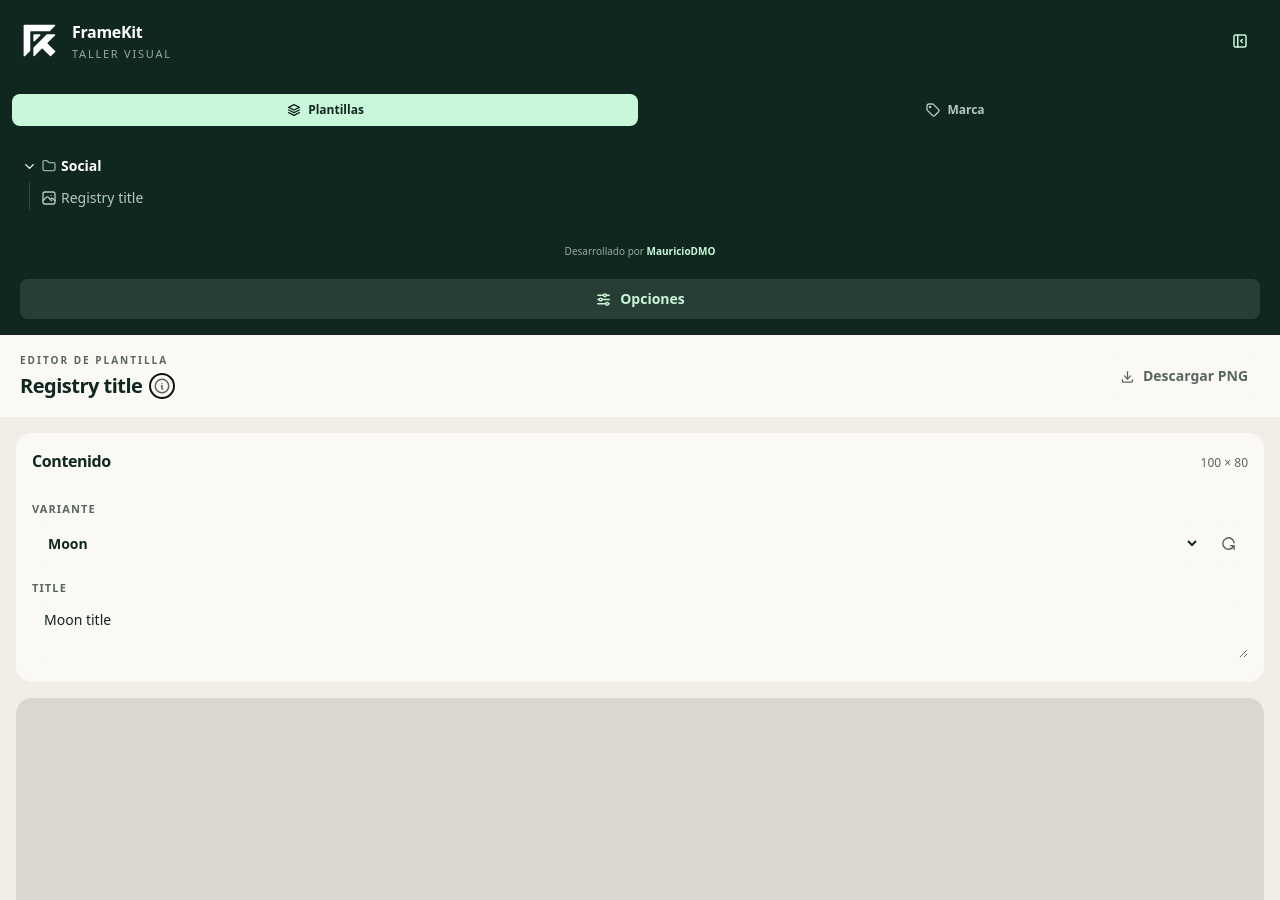
FrameKitStudio integration › uses registry metadata for the selected template without a slug fallback
Expected: the heading "Registry title" is shown, left=20, top=372, right=142, bottom=400
Click the button named "Metadata" at point(162, 386), box left=150, top=374, right=174, bottom=398
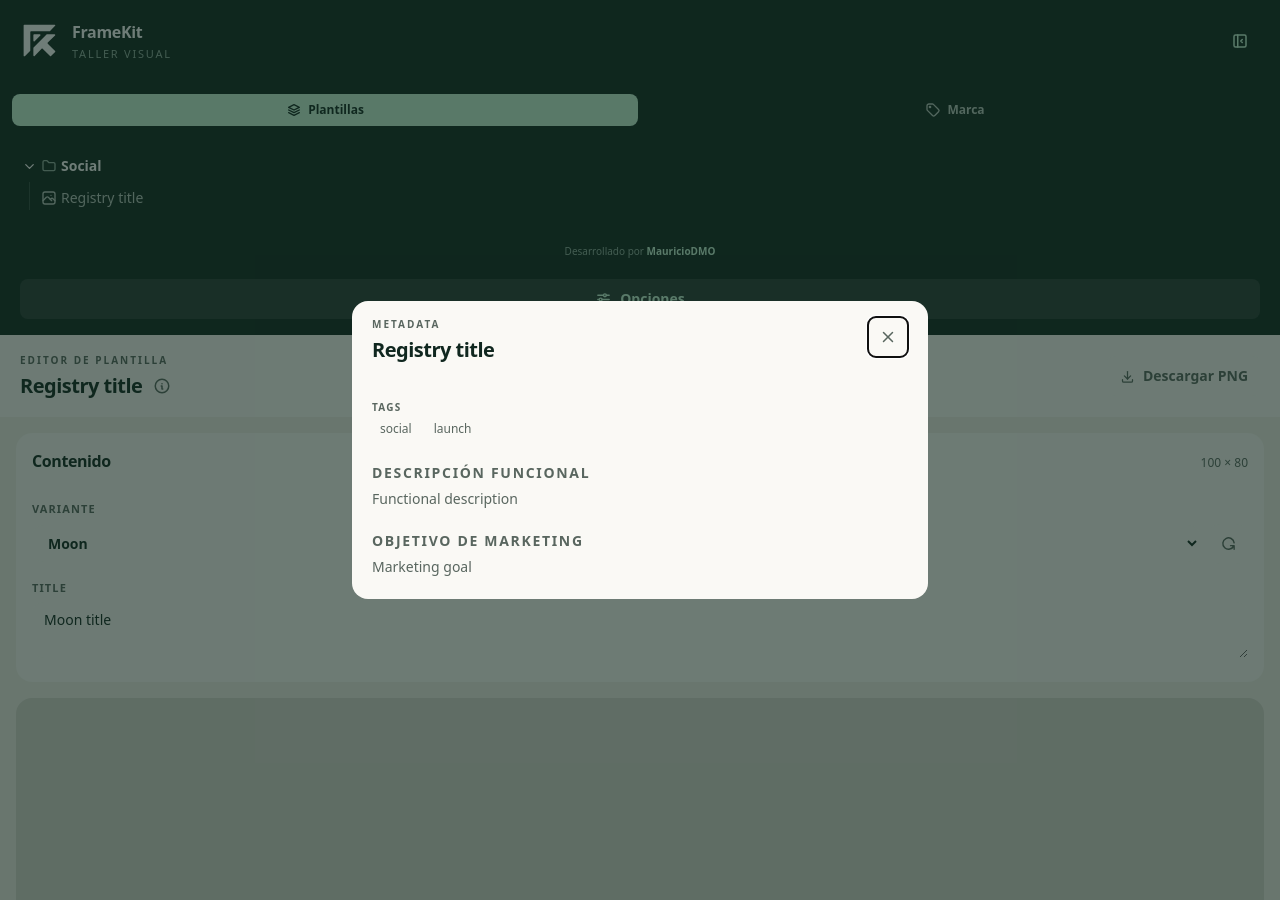
Expected: the text "Descripción funcional" is shown, left=372, top=463, right=590, bottom=482
Expected: the text "Objetivo de marketing" is shown, left=372, top=531, right=584, bottom=550
Expected: the list item "social" is shown, left=380, top=420, right=412, bottom=437
Click the button named "Cerrar" at point(888, 337), box left=868, top=317, right=908, bottom=357
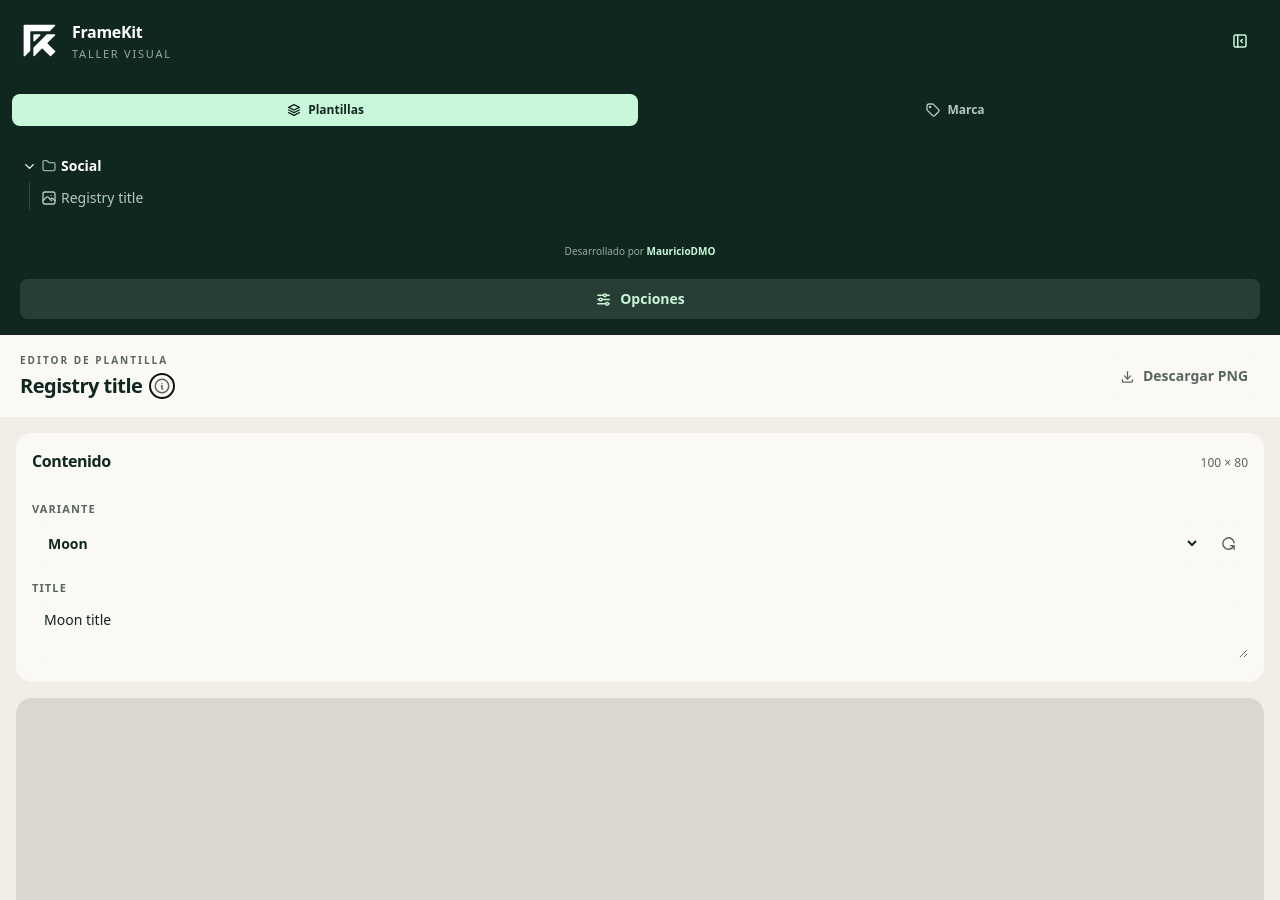
Expected: the dialog is gone
